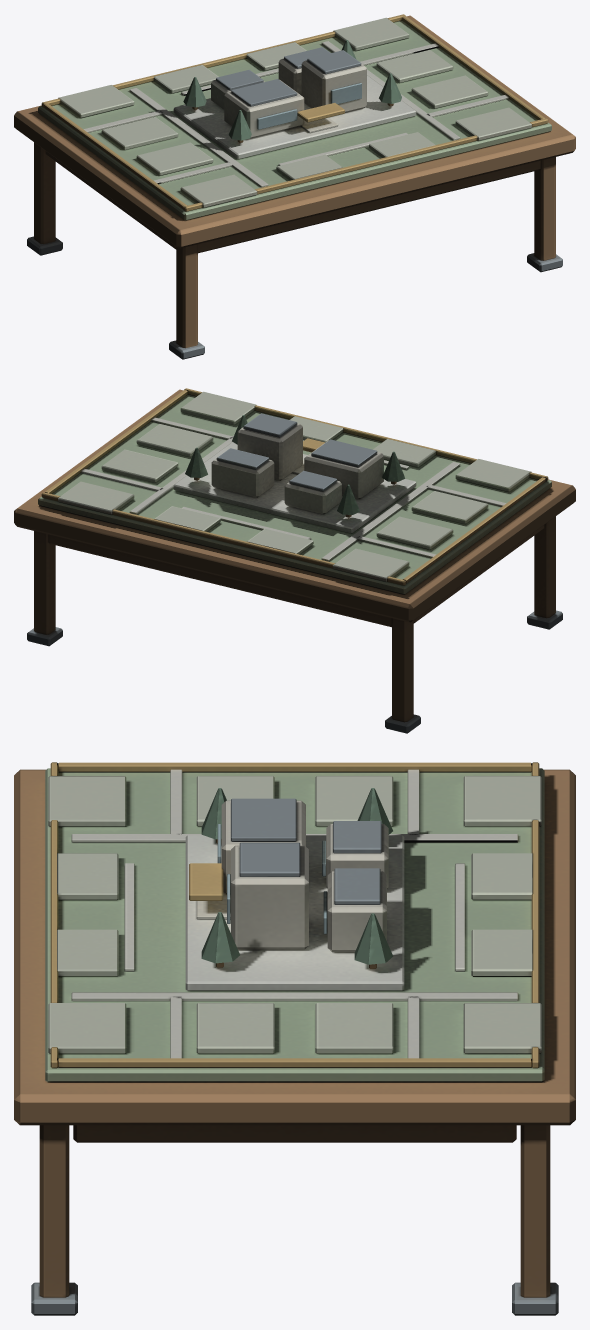
The model's file is 0-20261016-1900-ev039-r07-floor4-townmaptable_baked.glb.
The picture shows the model from 3 angles, top to bottom: view 1: azimuth 30°, elevation 25°; view 2: azimuth 150°, elevation 25°; view 3: azimuth 270°, elevation 25°; orthographic projection. The views are drawn at different scales.
Visible parts, largest first — view 1: SW_Leasing_TownMapTable; view 2: SW_Leasing_TownMapTable; view 3: SW_Leasing_TownMapTable.
Boxes of the visible parts, bbox=[...] form: SW_Leasing_TownMapTable: bbox=[14, 14, 575, 359]; SW_Leasing_TownMapTable: bbox=[14, 388, 575, 733]; SW_Leasing_TownMapTable: bbox=[14, 762, 575, 1315].
Bounding box in the file's own units: 2.5 × 1.16 × 1.8.
1 material, 1 textured.
